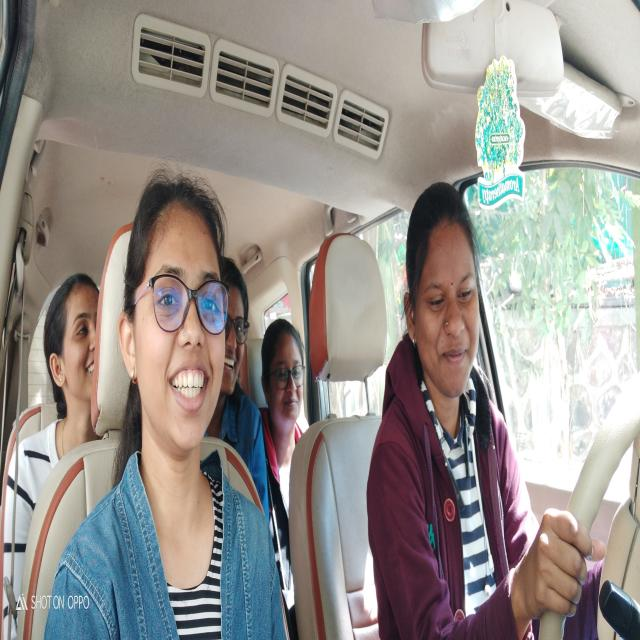person: (119, 164, 231, 460), (404, 181, 488, 429), (43, 266, 101, 435), (259, 313, 306, 444), (220, 240, 252, 409)
